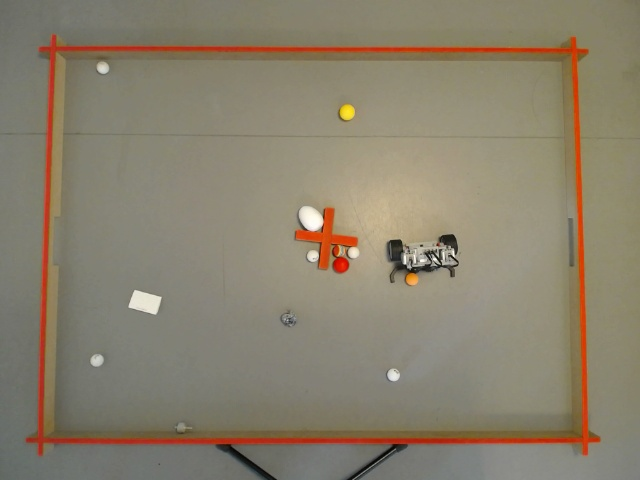big_goal: (52, 216, 60, 264), (566, 216, 572, 266)
cross: (295, 207, 358, 270)
egg: (298, 204, 322, 228)
orange: (406, 273, 417, 284)
robot: (387, 233, 456, 282)
wall: (55, 60, 571, 429)
white: (387, 369, 400, 380), (92, 354, 103, 366), (96, 63, 108, 72), (350, 248, 358, 260), (308, 249, 316, 261)
